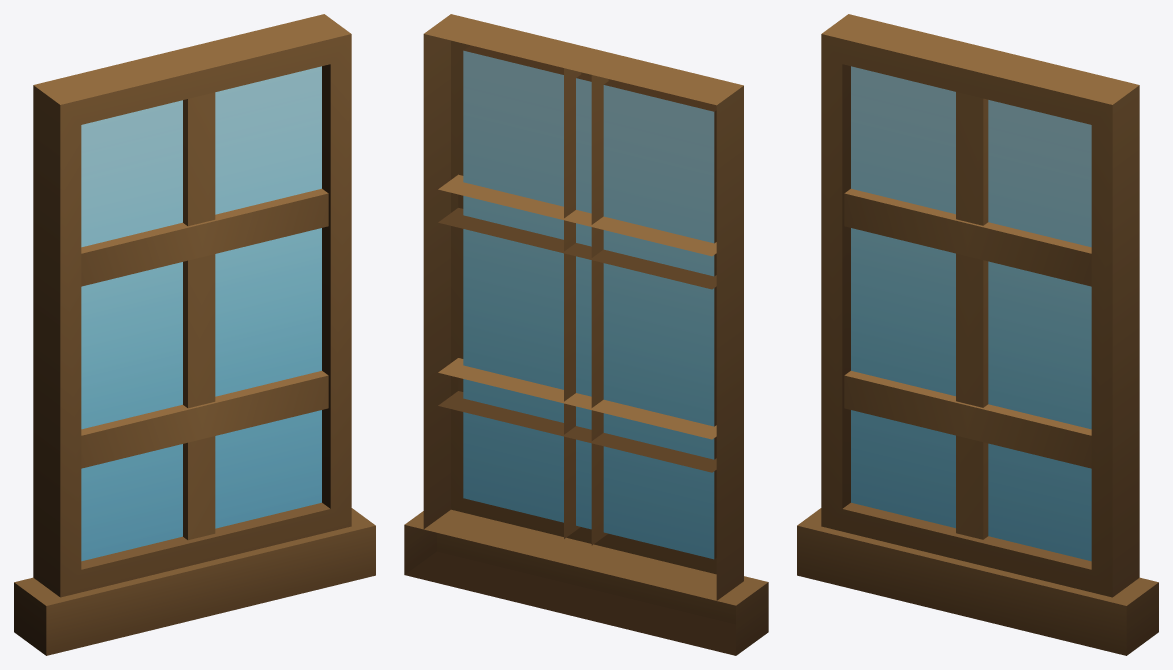
The model's file is Window_11C.fbx.
3 renders of one model, left to right at view 1: azimuth 30°, elevation 25°; view 2: azimuth 150°, elevation 25°; view 3: azimuth 330°, elevation 25°, orthographic.
Parts seen in each view (by area): view 1: Window_11C; view 2: Window_11C; view 3: Window_11C.
Boxes of the visible parts, x1,y1,x2,y2 form: Window_11C: [14, 14, 375, 655]; Window_11C: [404, 14, 768, 655]; Window_11C: [797, 14, 1158, 655].
Bounding box in the file's own units: 138 × 217 × 23.43.
2 materials, 2 textured.
